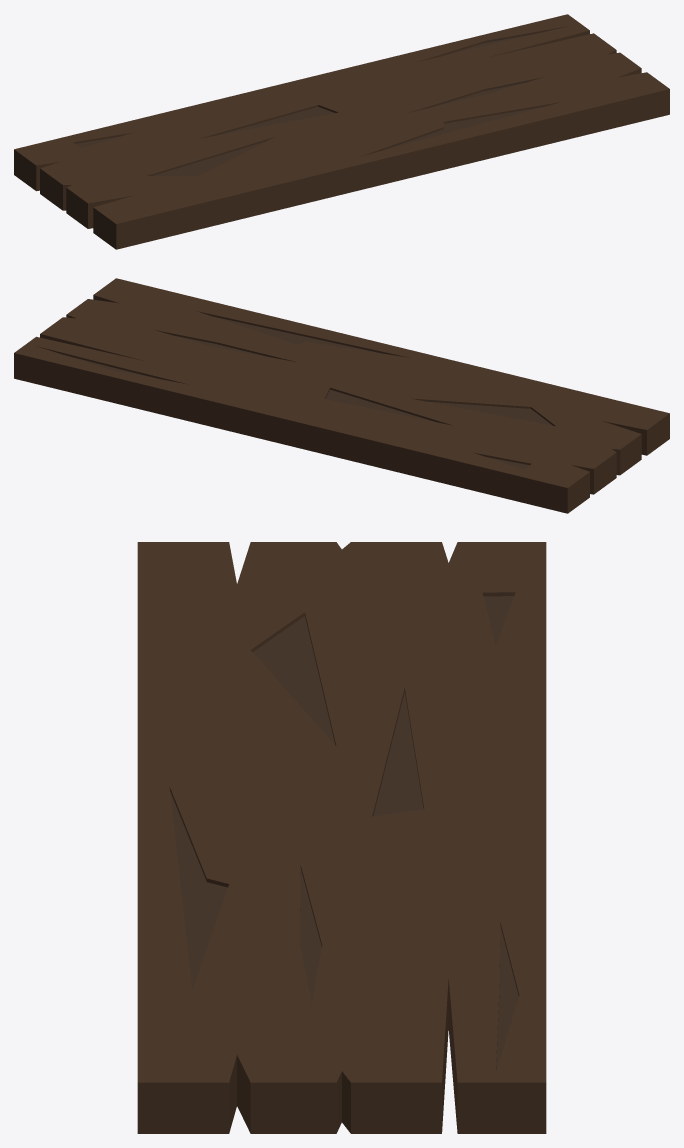
File: Planche Mine.fbx
3 renders of one model, top to bottom at view 1: azimuth 30°, elevation 25°; view 2: azimuth 150°, elevation 25°; view 3: azimuth 270°, elevation 25°, orthographic. The views are drawn at different scales.
Parts seen in each view (by area): view 1: Cube.003; view 2: Cube.003; view 3: Cube.003.
Part boxes in pixels (x1=…): Cube.003: x1=14, y1=14, x2=669, y2=249; Cube.003: x1=14, y1=278, x2=669, y2=513; Cube.003: x1=137, y1=542, x2=546, y2=1133.
Size of the model in its own units: 626 by 27.71 by 200.
